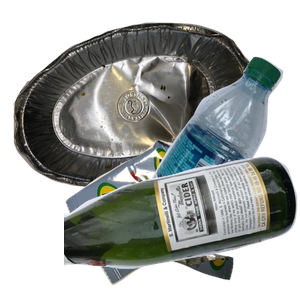glass: (64, 154, 300, 300)
metal: (11, 20, 251, 200)
plastic: (142, 54, 300, 234)
trash: (63, 137, 289, 300)
